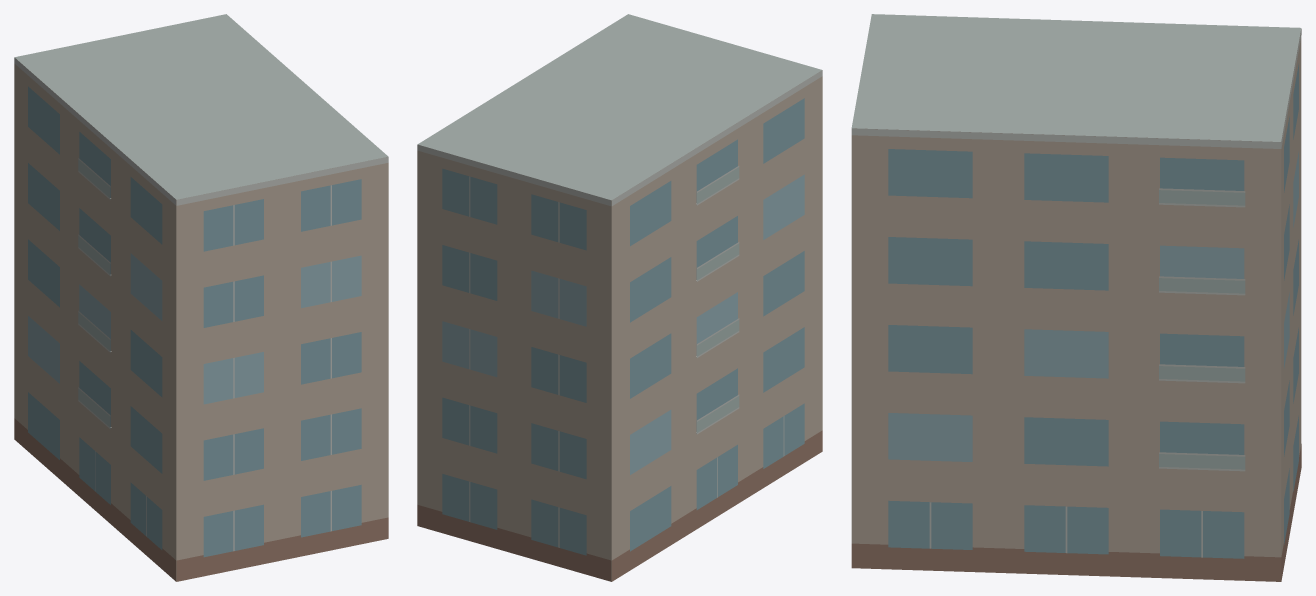
Rendered from survey-upis-32977075.glb.
3 renders of one model, left to right at view 1: azimuth 30°, elevation 25°; view 2: azimuth 150°, elevation 25°; view 3: azimuth 270°, elevation 25°, orthographic. The views are drawn at different scales.
Parts seen in each view (by area): view 1: survey-upis-32977075.tmp; view 2: survey-upis-32977075.tmp; view 3: survey-upis-32977075.tmp.
Part boxes in pixels (<box>): survey-upis-32977075.tmp: <box>14,14,388,581</box>; survey-upis-32977075.tmp: <box>417,14,822,581</box>; survey-upis-32977075.tmp: <box>851,14,1301,581</box>.
Size of the model in its own units: 9.56 by 15.3 by 14.2.
